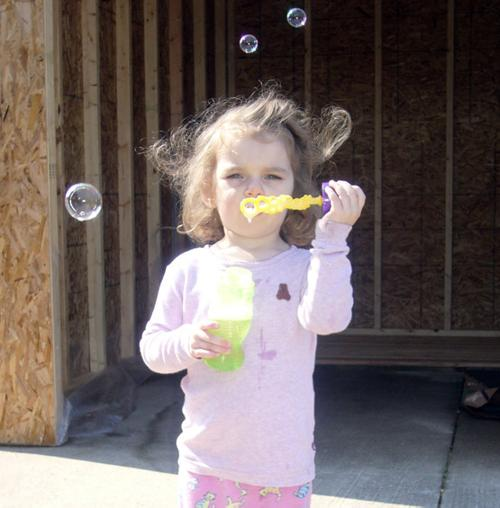person: (136, 99, 369, 508)
